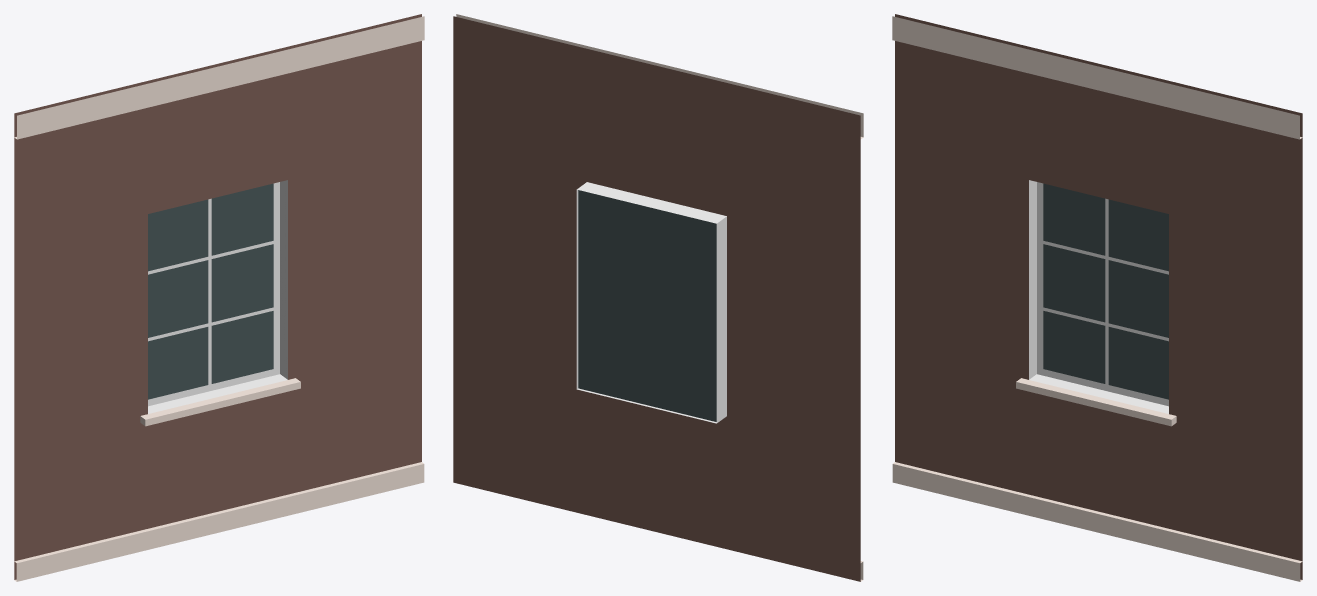
The model's file is top-w3.fbx.
3 views of the same model, side by side, from view 1: azimuth 30°, elevation 25°; view 2: azimuth 150°, elevation 25°; view 3: azimuth 330°, elevation 25° (orthographic).
Parts seen in each view (by area): view 1: a2000s3/600/top-w3; view 2: a2000s3/600/top-w3; view 3: a2000s3/600/top-w3.
Boxes of the visible parts, x1,y1,x2,y2 form: a2000s3/600/top-w3: (14,14,424,581); a2000s3/600/top-w3: (453,14,863,581); a2000s3/600/top-w3: (892,14,1302,581).
Bounding box in the file's own units: 3.2 × 3.5 × 0.21.
